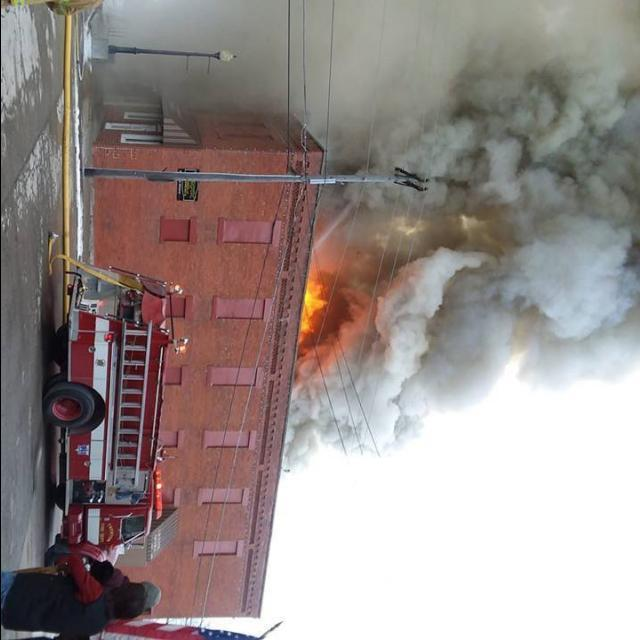Fire: (282, 260, 394, 340)
